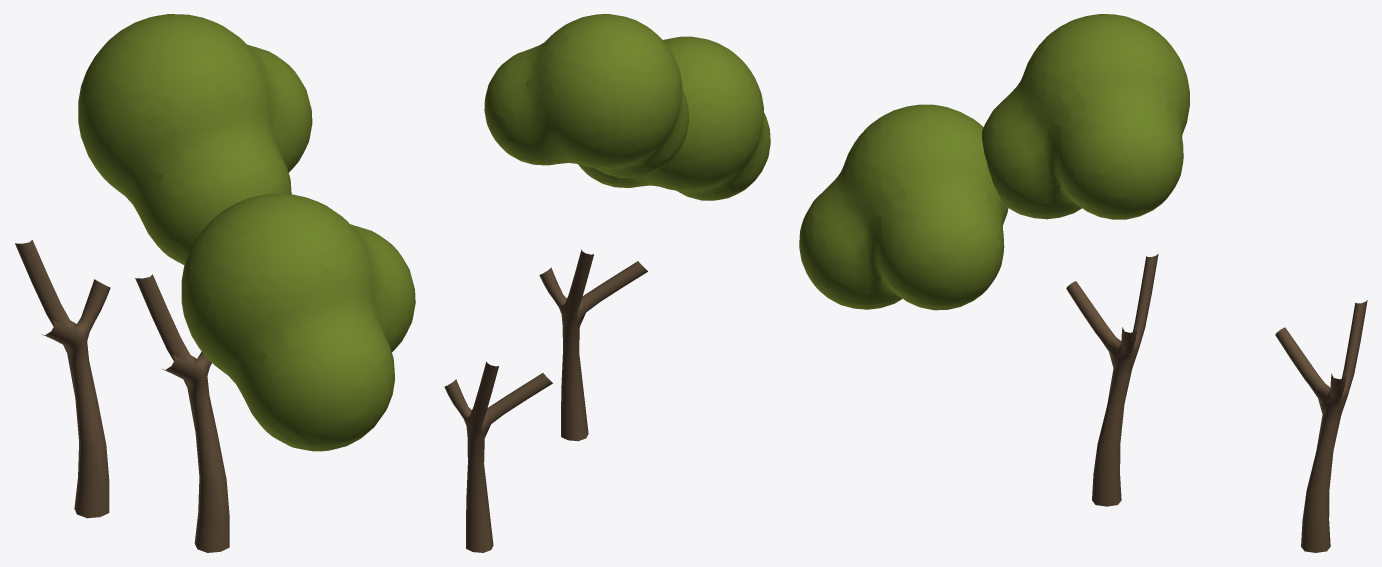
The picture shows the model from 3 angles, left to right: view 1: azimuth 30°, elevation 25°; view 2: azimuth 150°, elevation 25°; view 3: azimuth 270°, elevation 25°; orthographic projection. The views are drawn at different scales.
Parts seen in each view (by area): view 1: Tree_1 (×2); view 2: Tree_1 (×2); view 3: Tree_1 (×2).
Boxes of the visible parts, <box> form: Tree_1 (×2): <box>15,14,415,552</box>; Tree_1 (×2): <box>444,14,770,552</box>; Tree_1 (×2): <box>799,14,1367,552</box>.
Bounding box in the file's own units: 3.44 × 8.79 × 8.89.
